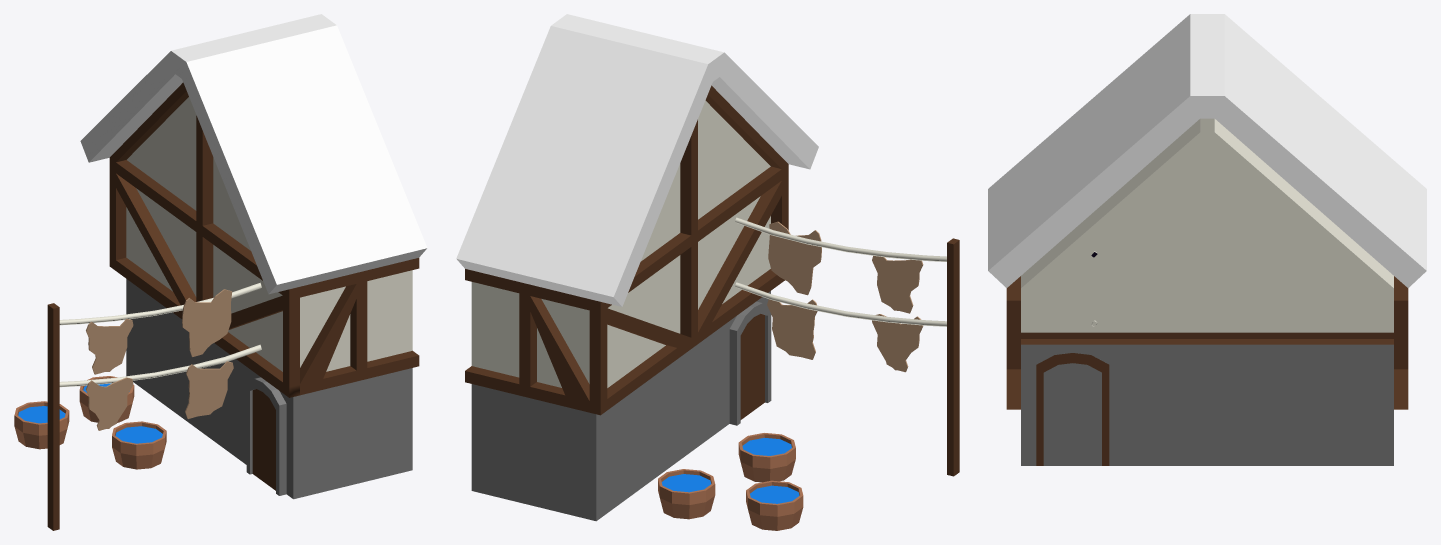
File: TanneryCap.fbx
3 views of the same model, side by side, from view 1: azimuth 30°, elevation 25°; view 2: azimuth 150°, elevation 25°; view 3: azimuth 270°, elevation 25° (orthographic). The views are drawn at different scales.
Parts seen in each view (by area): view 1: Tannery Cap; view 2: Tannery Cap; view 3: Tannery Cap.
Part boxes in pixels (box(x1,y1,x2,y2)): Tannery Cap: box(14, 14, 427, 530); Tannery Cap: box(456, 14, 959, 530); Tannery Cap: box(988, 14, 1426, 465).
Size of the model in its own units: 79.41 by 90.11 by 81.96.
